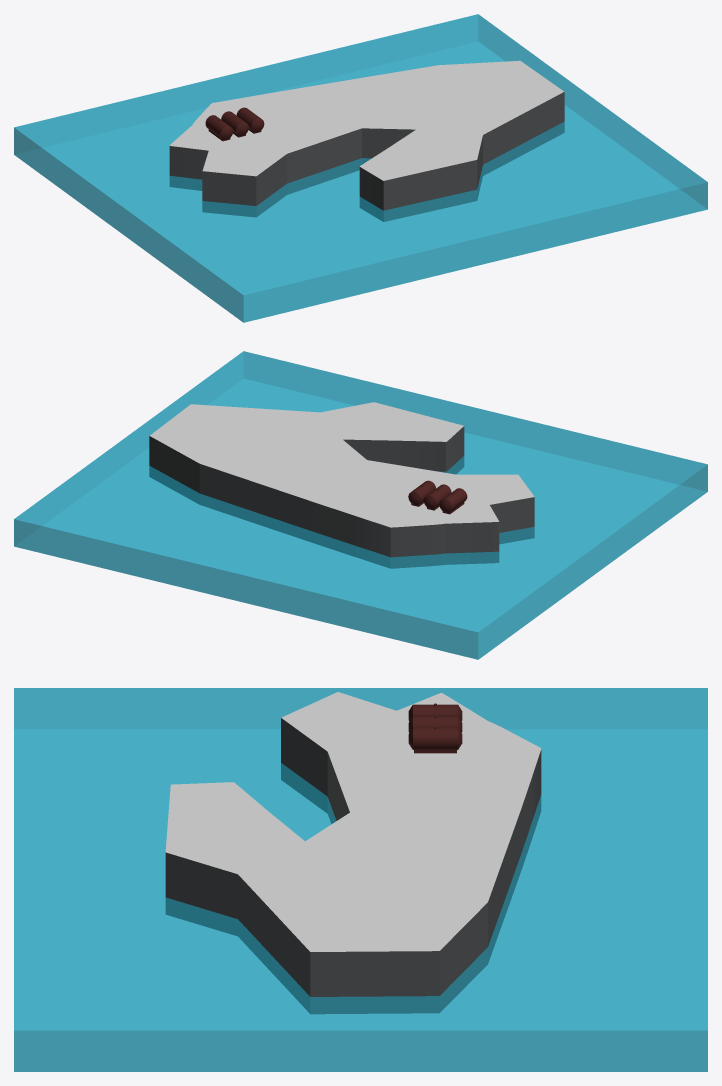
The picture shows the model from 3 angles, top to bottom: view 1: azimuth 30°, elevation 25°; view 2: azimuth 150°, elevation 25°; view 3: azimuth 270°, elevation 25°; orthographic projection. The views are drawn at different scales.
Parts seen in each view (by area): view 1: water, Island; view 2: water, Island; view 3: water, Island, Cube.1, Cube, Cube.2.
Boxes of the visible parts, x1,y1,x2,y2 form: water: (14, 14, 707, 322); Island: (169, 60, 564, 221); water: (14, 351, 707, 659); Island: (149, 402, 534, 568); water: (14, 688, 707, 1071); Island: (165, 692, 541, 1013); Cube.1: (408, 726, 462, 753); Cube: (408, 703, 462, 721); Cube.2: (408, 715, 462, 732).
Bounding box in the file's own units: 35.49 × 5.33 × 30.4.
